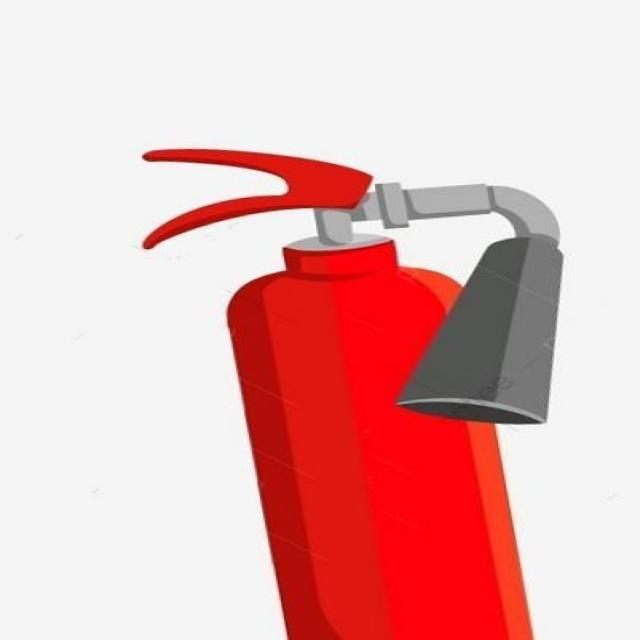fire_extinguisher: (132, 145, 574, 639)
